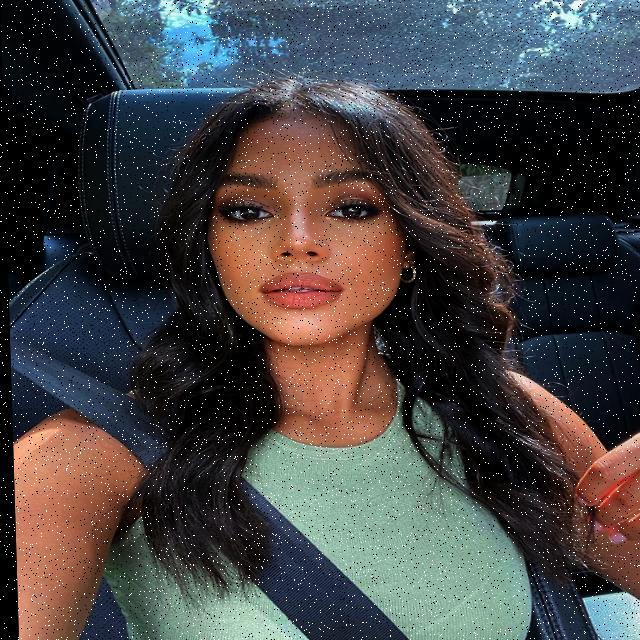seatbelt: (8, 357, 536, 640)
